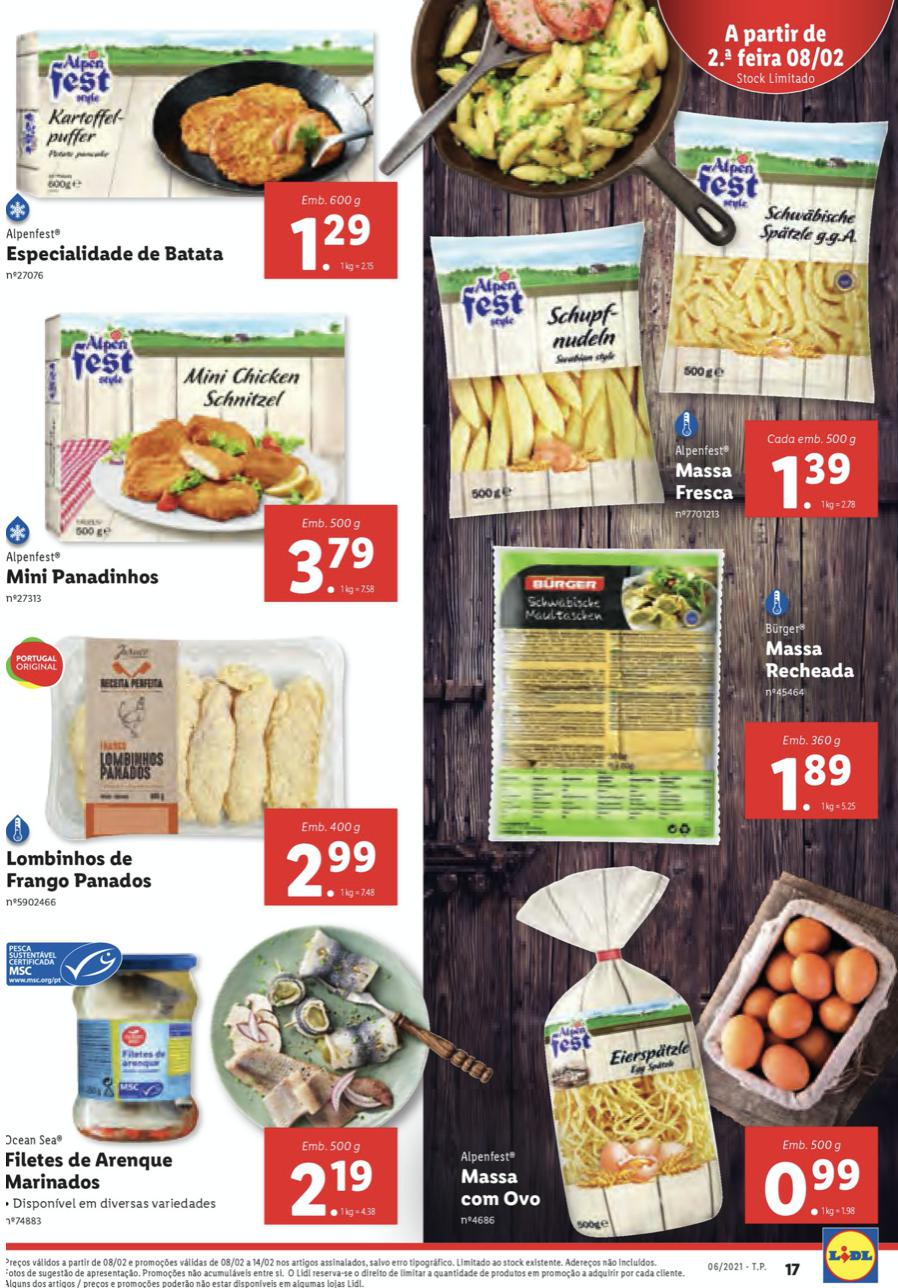name: (6, 1148, 177, 1197), (4, 846, 161, 892), (6, 238, 229, 268), (761, 640, 867, 686), (6, 565, 166, 594), (666, 459, 742, 510), (456, 1167, 545, 1210)
price: (279, 530, 388, 602), (285, 1153, 385, 1224), (760, 1156, 869, 1219), (763, 448, 864, 514), (288, 207, 383, 276), (283, 838, 385, 902), (766, 751, 863, 818)
product: (434, 105, 877, 530), (447, 860, 893, 1232), (447, 530, 877, 860), (1, 913, 417, 1229), (4, 307, 410, 624), (2, 632, 417, 913), (1, 19, 409, 297)
